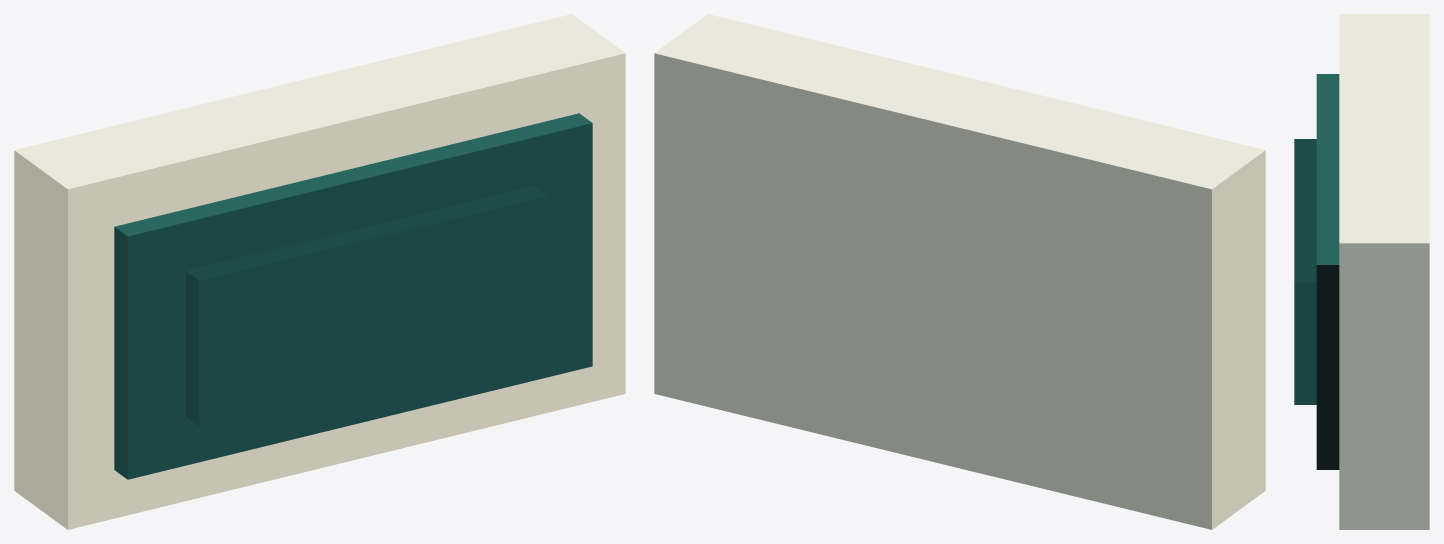
File: Signal_LampOff.gltf
The picture shows the model from 3 angles, left to right: view 1: azimuth 30°, elevation 25°; view 2: azimuth 150°, elevation 25°; view 3: azimuth 270°, elevation 25°; orthographic projection. The views are drawn at different scales.
Parts seen in each view (by area): view 1: Signal_LampOff_baked; view 2: Signal_LampOff_baked; view 3: Signal_LampOff_baked.
Part boxes in pixels (left/top/right/bottom): Signal_LampOff_baked: left=14, top=14, right=625, bottom=529; Signal_LampOff_baked: left=654, top=14, right=1265, bottom=529; Signal_LampOff_baked: left=1294, top=14, right=1429, bottom=529.
Size of the model in its own units: 0.48 by 0.28 by 0.12.
